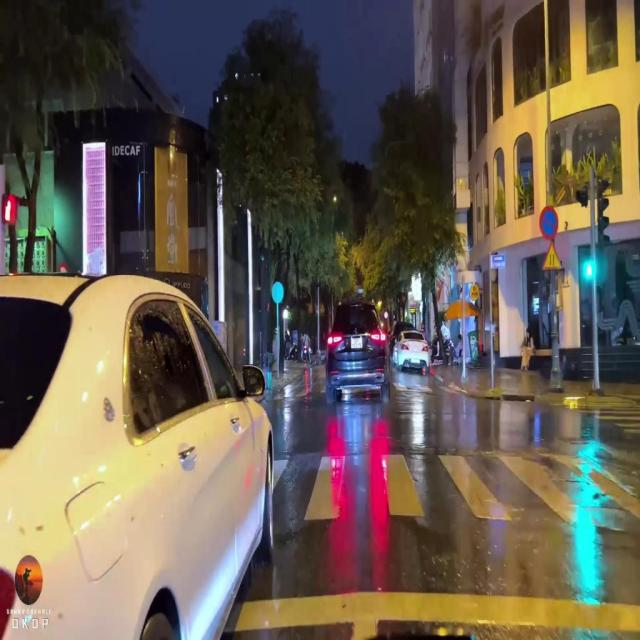cam_do_xe: (540, 205, 559, 238)
khac: (542, 241, 561, 269)
